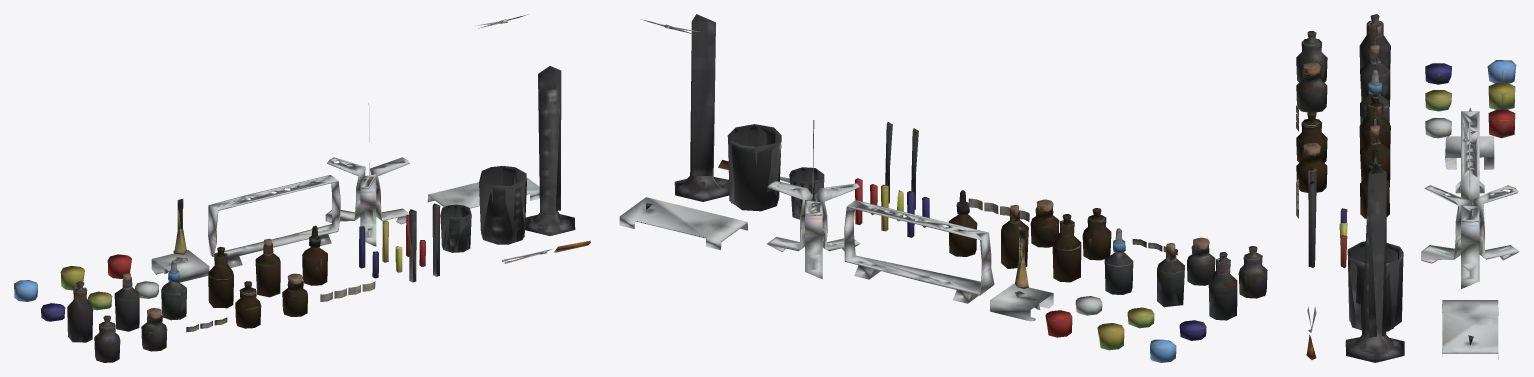
Rendered from cc0_chemistry_set.glb.
3 views of the same model, side by side, from view 1: azimuth 30°, elevation 25°; view 2: azimuth 150°, elevation 25°; view 3: azimuth 270°, elevation 25° (orthographic). The views are drawn at different scales.
Visible parts, largest first — view 1: chemistry_set_beaker_large, chemistry_set_beaker_med, chemistry_set_test_tube_stand_a, chemistry_set_test_tube_stand_b, chemistry_set_bunsen_burner, chemistry_set_beaker_small, chemistry_set_bottle_clear_c, chemistry_set_bottle_dark_c, chemistry_set_clamp_stand, chemistry_set_bottle_dark_d, chemistry_set_bottle_clear_d, chemistry_set_bottle_dark_e (+10 smaller); view 2: chemistry_set_beaker_large, chemistry_set_test_tube_stand_a, chemistry_set_beaker_med, chemistry_set_test_tube_stand_b, chemistry_set_clamp_stand, chemistry_set_bunsen_burner, chemistry_set_bottle_clear_c, chemistry_set_bottle_dark_c, chemistry_set_bottle_clear_d, chemistry_set_bottle_clear_e, chemistry_set_bottle_dark_d, chemistry_set_bottle_clear_a (+8 smaller); view 3: chemistry_set_beaker_large, chemistry_set_test_tube_stand_b, chemistry_set_clamp_stand, chemistry_set_beaker_med, chemistry_set_test_tube_stand_a, chemistry_set_bottle_clear_b, chemistry_set_bunsen_burner, chemistry_set_bottle_dark_b, chemistry_set_bottle_clear_c, chemistry_set_bottle_dark_c, chemistry_set_bottle_clear_d, chemistry_set_bottle_dark_d (+15 smaller).
Boxes of the visible parts, x1,y1,x2,y2 form: chemistry_set_beaker_large: (525,66,575,235); chemistry_set_beaker_med: (479,166,526,244); chemistry_set_test_tube_stand_a: (208,175,340,267); chemistry_set_test_tube_stand_b: (325,103,409,246); chemistry_set_bunsen_burner: (151,199,209,282); chemistry_set_beaker_small: (440,204,471,252); chemistry_set_bottle_clear_c: (67,286,93,342); chemistry_set_bottle_dark_c: (208,252,233,308); chemistry_set_clamp_stand: (427,177,539,208); chemistry_set_bottle_dark_d: (255,243,280,297); chemistry_set_bottle_clear_d: (114,277,139,331); chemistry_set_bottle_dark_e: (302,247,327,285); chemistry_set_beaker_large: (674,14,729,201); chemistry_set_test_tube_stand_a: (844,200,994,303); chemistry_set_beaker_med: (727,124,781,211); chemistry_set_test_tube_stand_b: (767,120,860,279); chemistry_set_clamp_stand: (619,197,747,250); chemistry_set_bunsen_burner: (990,226,1053,321); chemistry_set_bottle_clear_c: (1208,258,1237,320); chemistry_set_bottle_dark_c: (1052,220,1081,282); chemistry_set_bottle_clear_d: (1157,247,1184,307); chemistry_set_bottle_clear_e: (1104,252,1133,294); chemistry_set_bottle_dark_d: (1001,209,1028,268); chemistry_set_bottle_clear_a: (1238,253,1267,298); chemistry_set_beaker_large: (1345,163,1404,362); chemistry_set_test_tube_stand_b: (1421,121,1519,288); chemistry_set_clamp_stand: (1442,300,1498,359); chemistry_set_beaker_med: (1347,241,1403,331); chemistry_set_test_tube_stand_a: (1455,111,1484,205); chemistry_set_bottle_clear_b: (1296,69,1327,112); chemistry_set_bunsen_burner: (1445,108,1494,169); chemistry_set_bottle_dark_b: (1296,150,1327,192); chemistry_set_bottle_clear_c: (1359,20,1390,69); chemistry_set_bottle_dark_c: (1359,101,1390,149); chemistry_set_bottle_clear_d: (1360,50,1390,107); chemistry_set_bottle_dark_d: (1360,130,1390,187).
Size of the model in its own units: 1.08 by 0.3697 by 0.3534.
2 materials, 2 textured.
